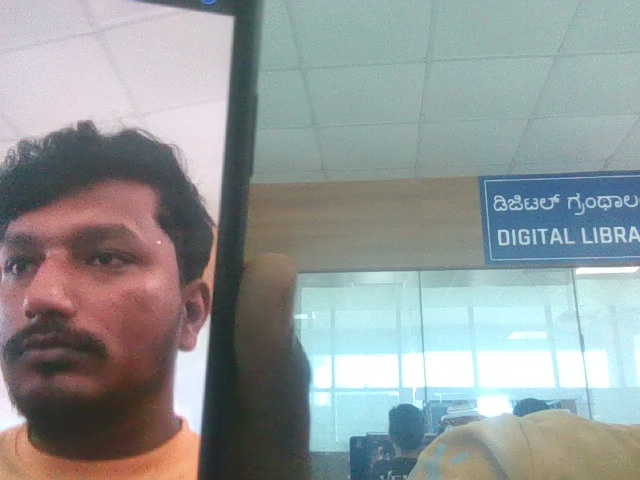fake: (0, 93, 249, 444)
